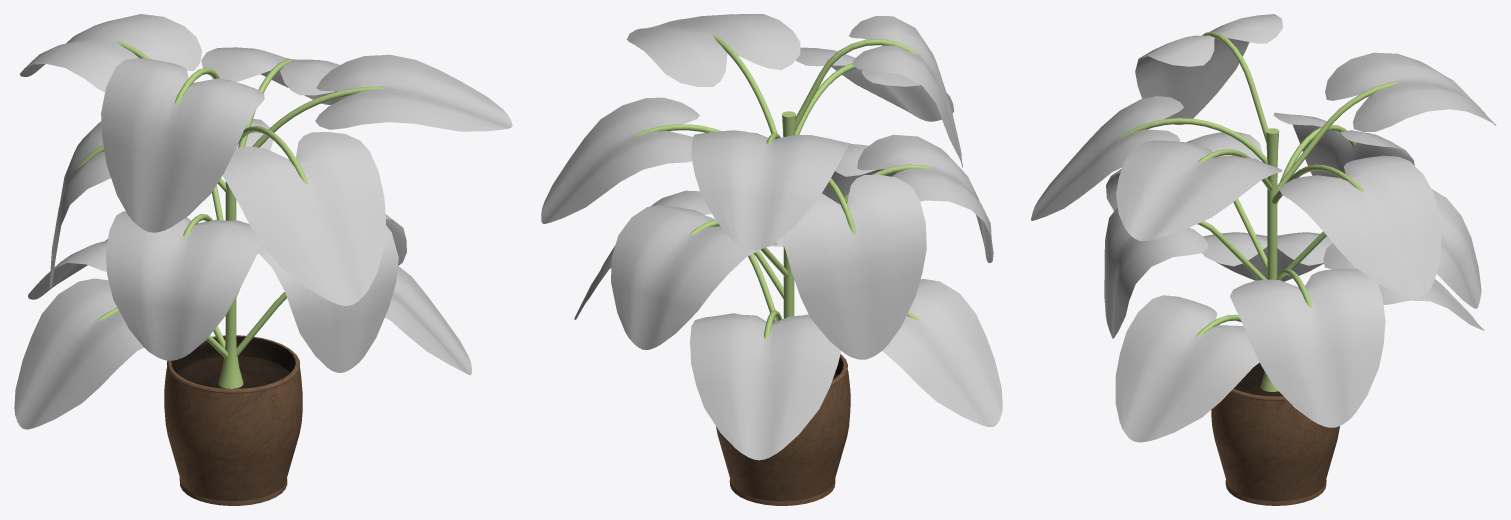
The model's file is PottedPlant_02.3.fbx.
The picture shows the model from 3 angles, left to right: view 1: azimuth 30°, elevation 25°; view 2: azimuth 150°, elevation 25°; view 3: azimuth 270°, elevation 25°; orthographic projection. The views are drawn at different scales.
Visible parts, largest first — view 1: pCylinder5; view 2: pCylinder5; view 3: pCylinder5.
Boxes of the visible parts, x1,y1,x2,y2 form: pCylinder5: (14, 14, 512, 505); pCylinder5: (541, 14, 1002, 505); pCylinder5: (1031, 14, 1496, 505).
Bounding box in the file's own units: 232 × 235 × 236.
